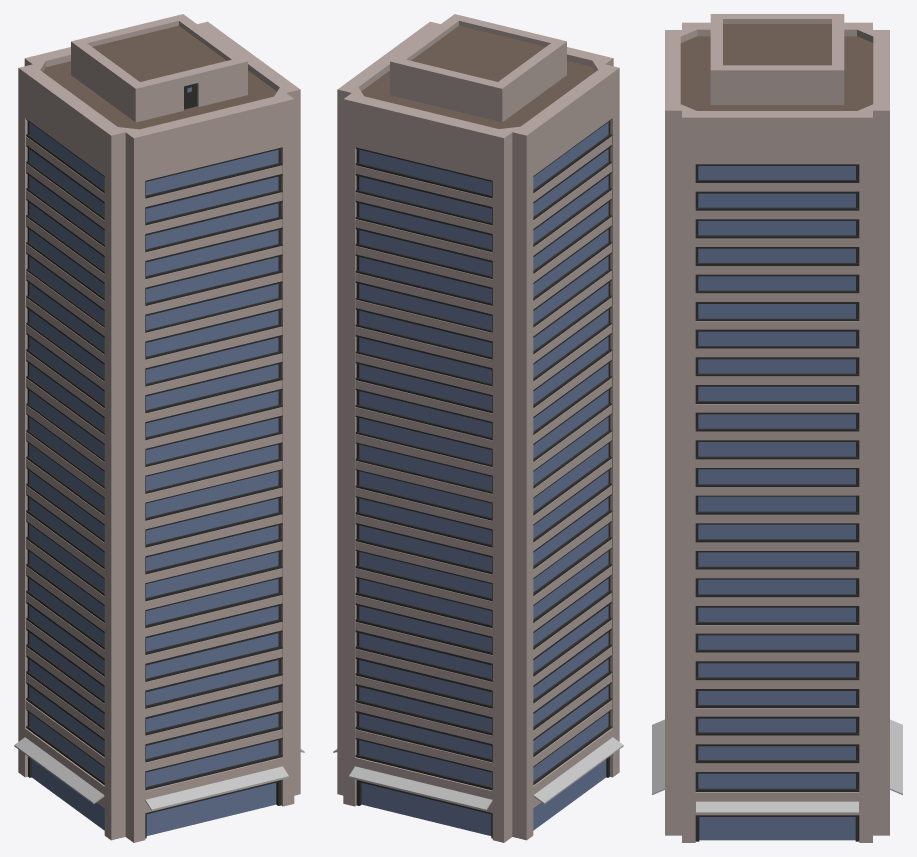
The model's file is LargeBuilding_16.fbx.
3 views of the same model, side by side, from view 1: azimuth 30°, elevation 25°; view 2: azimuth 150°, elevation 25°; view 3: azimuth 270°, elevation 25° (orthographic). The views are drawn at different scales.
Visible parts, largest first — view 1: LargeBuilding_16; view 2: LargeBuilding_16; view 3: LargeBuilding_16.
Boxes of the visible parts, box(x1,y1,x2,y2) form: LargeBuilding_16: box(14, 14, 304, 842); LargeBuilding_16: box(333, 14, 623, 842); LargeBuilding_16: box(652, 14, 902, 842).
Bounding box in the file's own units: 24.09 × 79.86 × 24.09.
